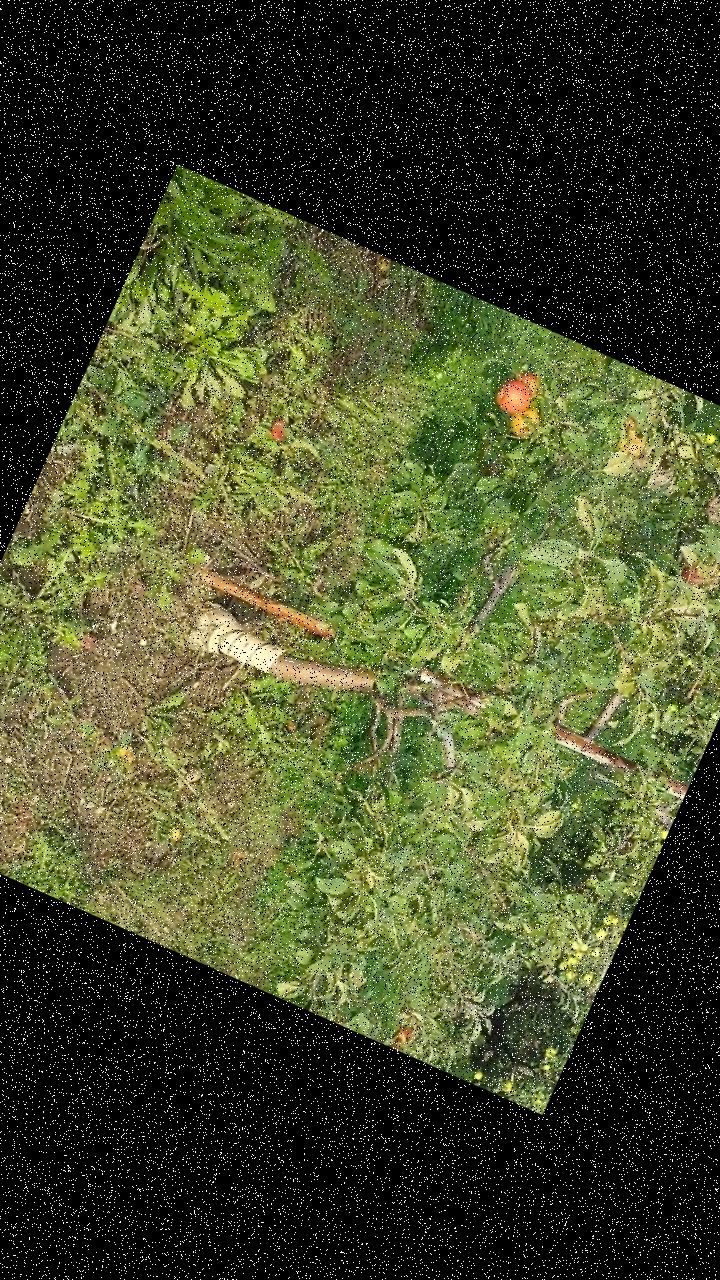Apple: (488, 372, 537, 422), (615, 428, 650, 464), (506, 406, 541, 442), (388, 1024, 416, 1054), (516, 369, 543, 394), (678, 566, 704, 590)
